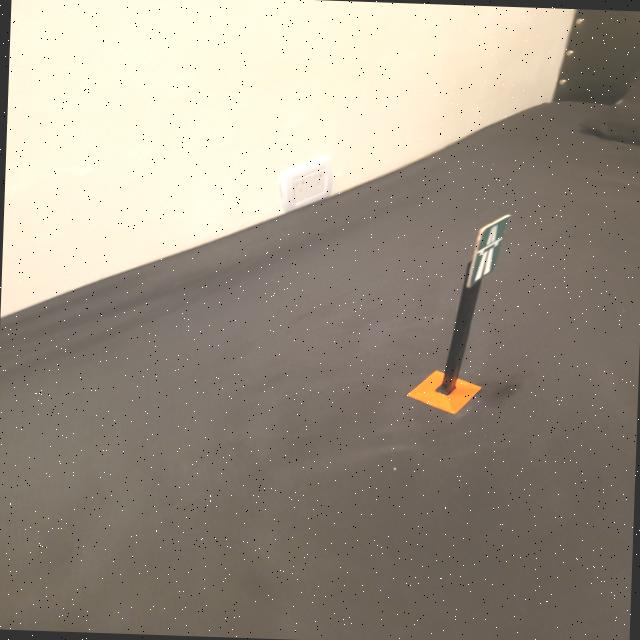highway_entrance: (466, 213, 508, 290)
